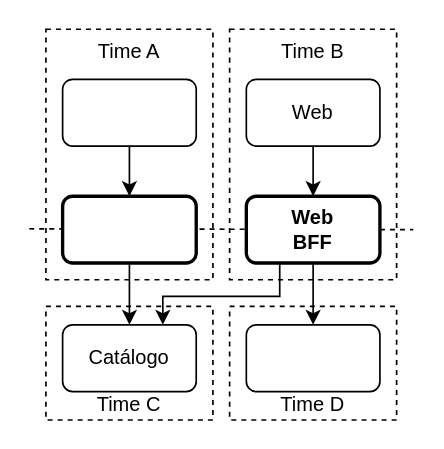
This 444x449 diagram has some shape labels left out. Each missing label, with the centre of its shape:
"Estoque" goes at (x=312, y=357).
"Mobile" goes at (x=128, y=112).
"Mobile BFF" goes at (x=128, y=229).
